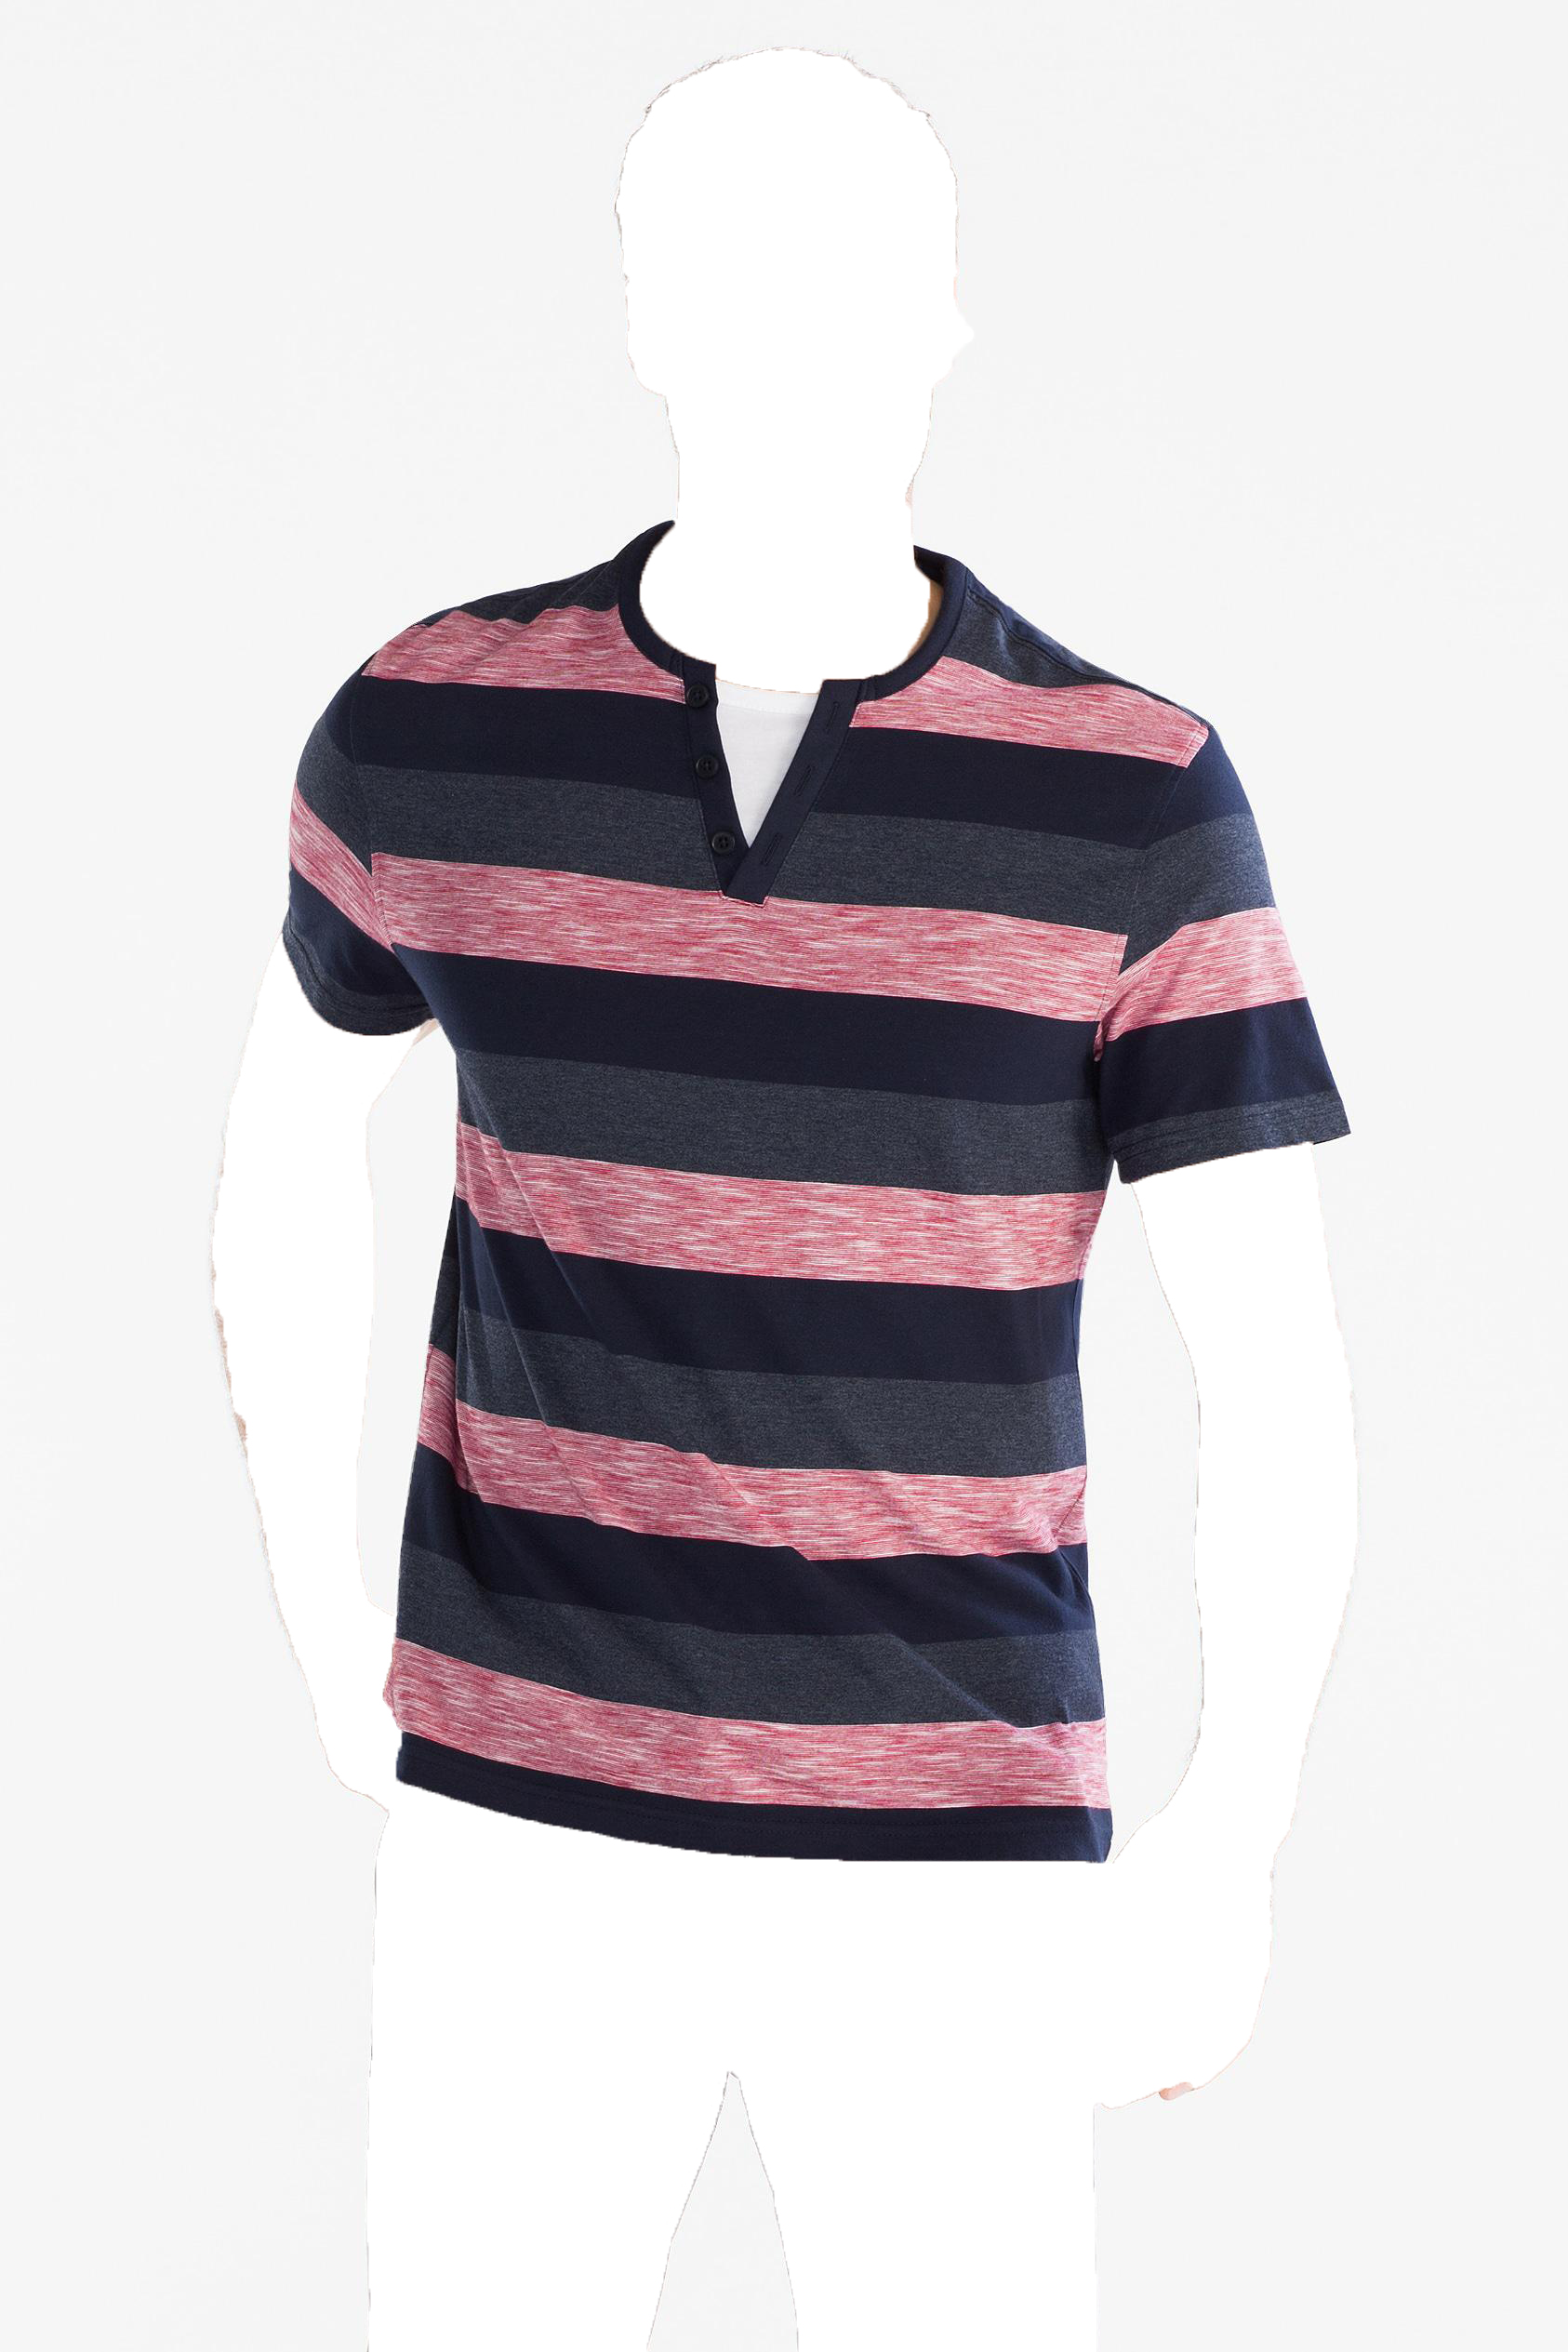teeshirt: (259, 514, 1386, 1970)
